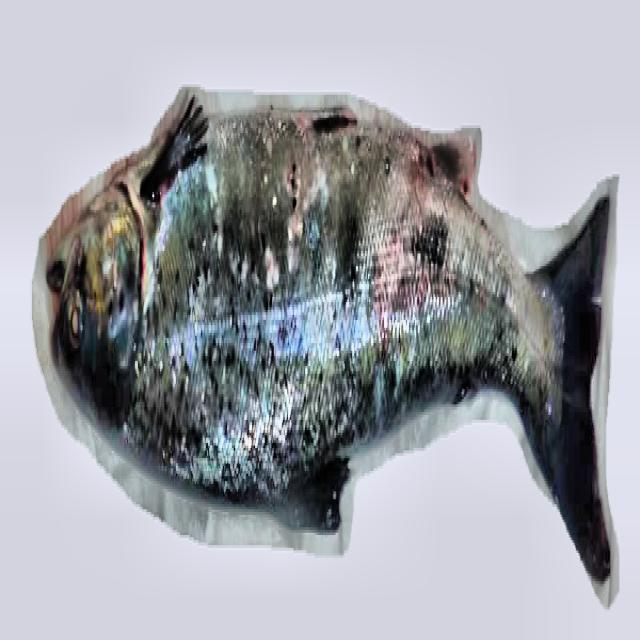mild_red: (86, 95, 561, 530)
